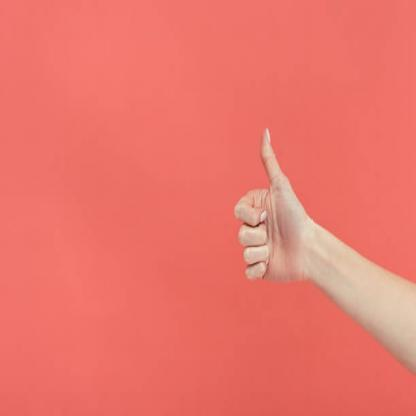thumb_up: (231, 122, 310, 286)
